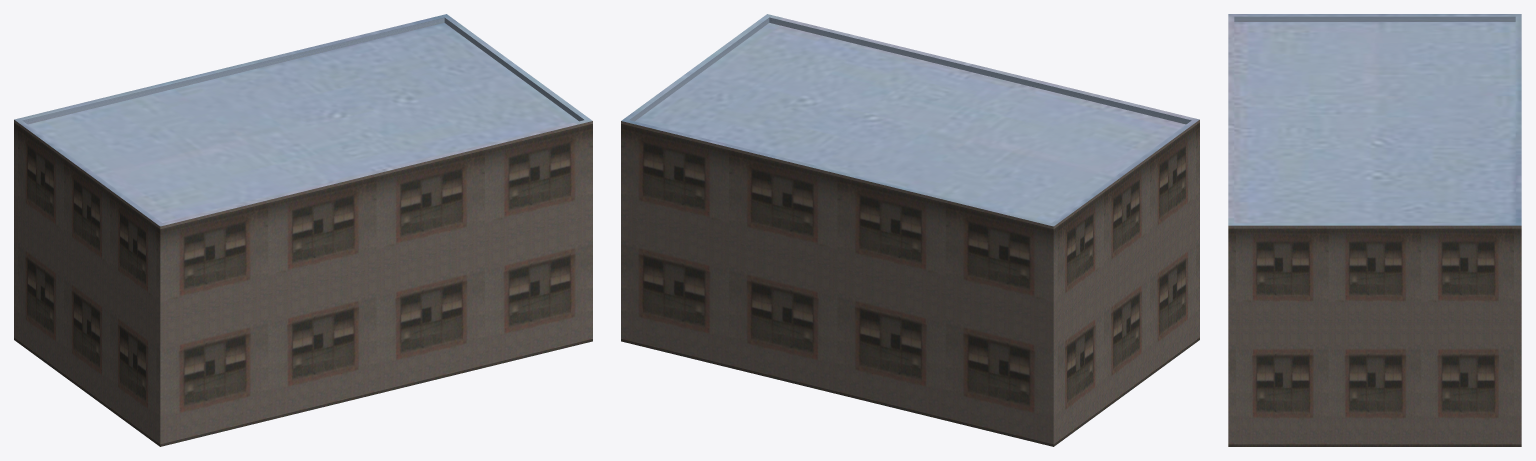
The model's file is side building31.FBX.
3 views of the same model, side by side, from view 1: azimuth 30°, elevation 25°; view 2: azimuth 150°, elevation 25°; view 3: azimuth 270°, elevation 25° (orthographic).
Visible parts, largest first — view 1: Object22680; view 2: Object22680; view 3: Object22680.
Boxes of the visible parts, x1,y1,x2,y2 form: Object22680: [14, 14, 592, 446]; Object22680: [621, 14, 1199, 446]; Object22680: [1228, 14, 1521, 446].
Bounding box in the file's own units: 25.26 × 14.78 × 12.3.
